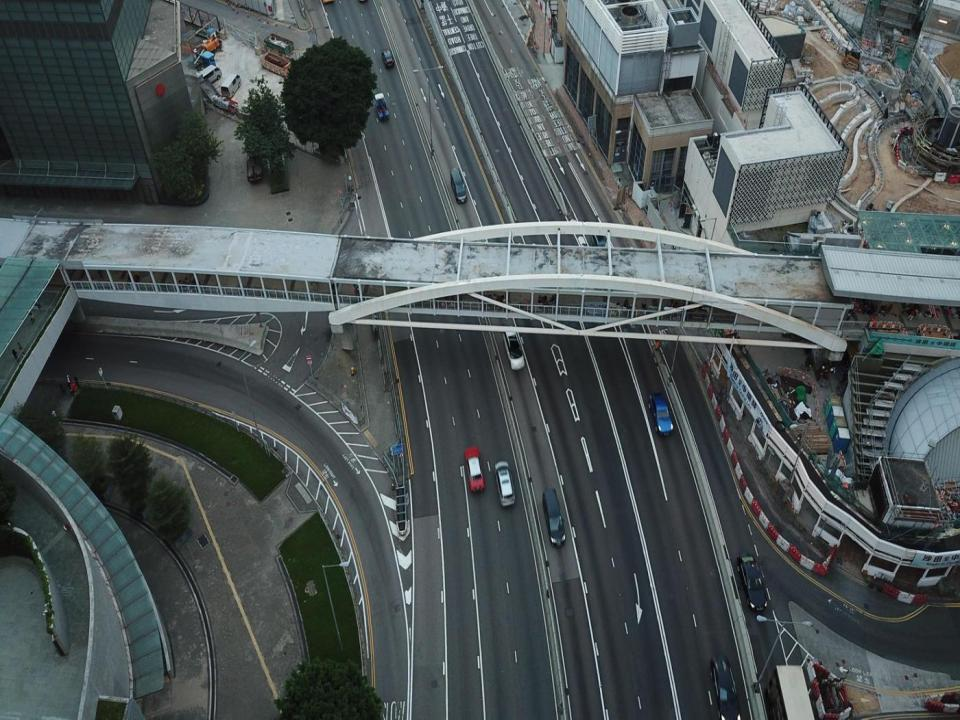car: (708, 655, 740, 719), (736, 551, 768, 613), (647, 392, 674, 439), (463, 446, 485, 494), (494, 461, 515, 507), (589, 228, 611, 268), (382, 48, 394, 70)
van: (542, 488, 565, 549), (501, 325, 525, 370), (449, 167, 467, 205), (220, 72, 241, 102), (197, 66, 221, 88), (374, 92, 390, 122)
